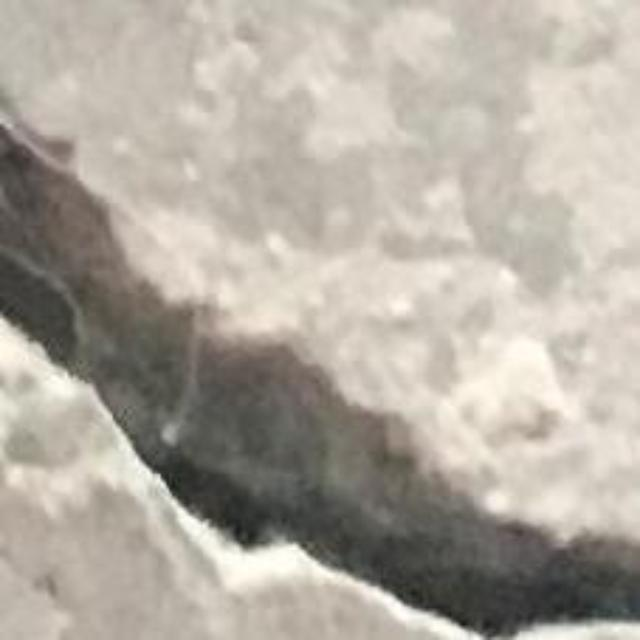crack: (0, 122, 639, 634)
